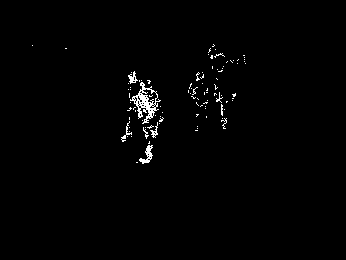person: (134, 79, 162, 165), (188, 72, 211, 131)
